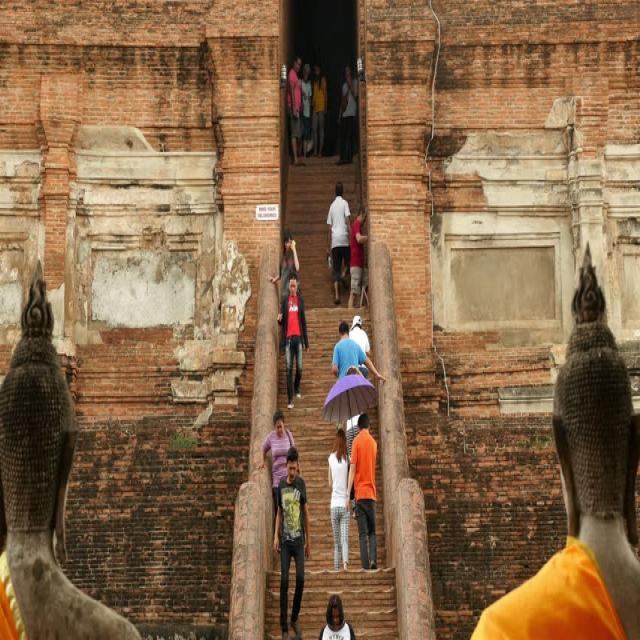body: (465, 236, 640, 640), (0, 254, 143, 637), (271, 444, 312, 639), (256, 407, 301, 556), (342, 405, 380, 576), (276, 268, 311, 412), (326, 423, 357, 577), (324, 177, 354, 307), (330, 318, 387, 382), (342, 366, 364, 522), (346, 203, 372, 313), (269, 228, 300, 315), (334, 60, 359, 167), (284, 52, 304, 168), (317, 590, 357, 640), (310, 59, 328, 160), (296, 60, 313, 157), (348, 313, 372, 380)
